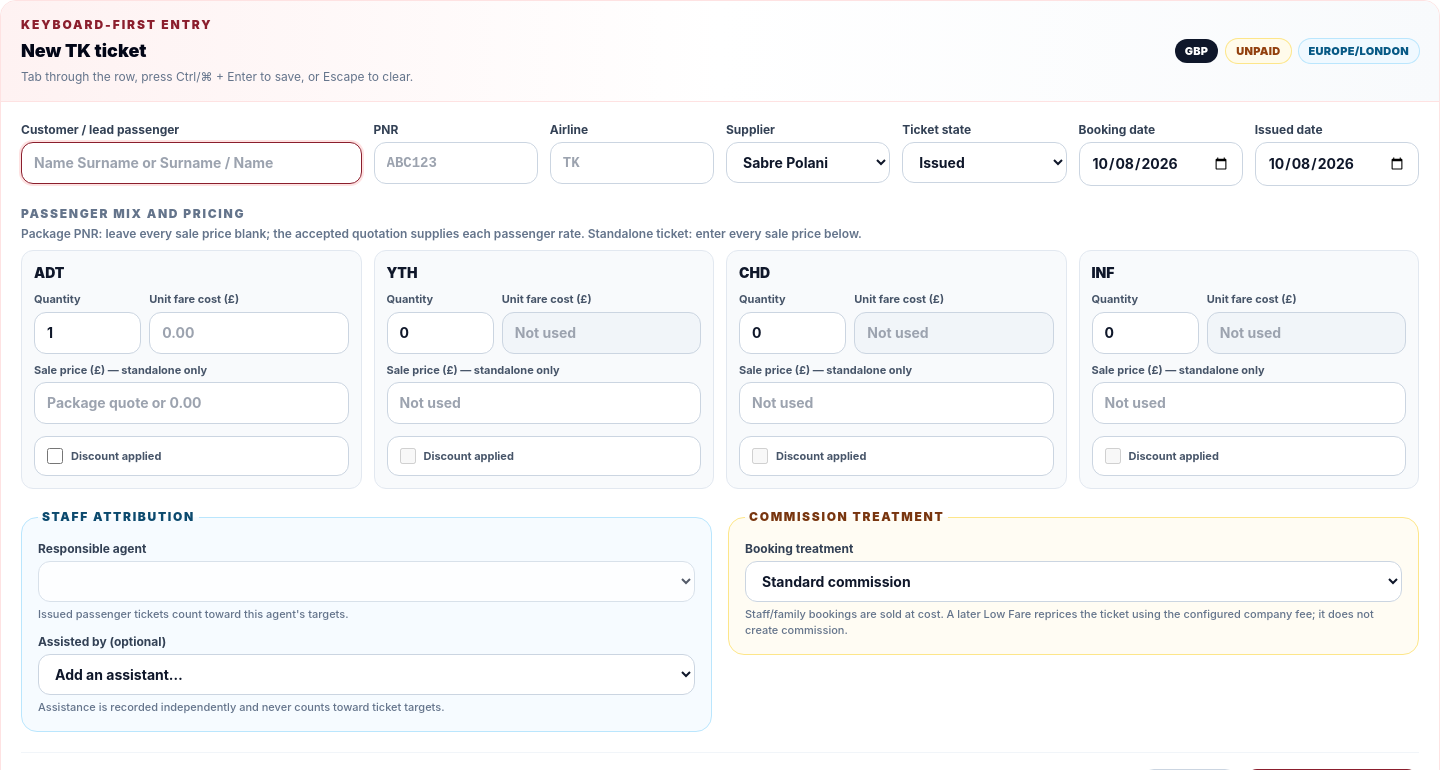
Test: TicketQuickEntryForm › shows sale price by default and reveals discount only when selected
Check: the field named "ADT unit sale price" is shown, box [34, 382, 348, 424]
Click the checkbox named "ADT has discount": (55, 456) [47, 448, 63, 464]
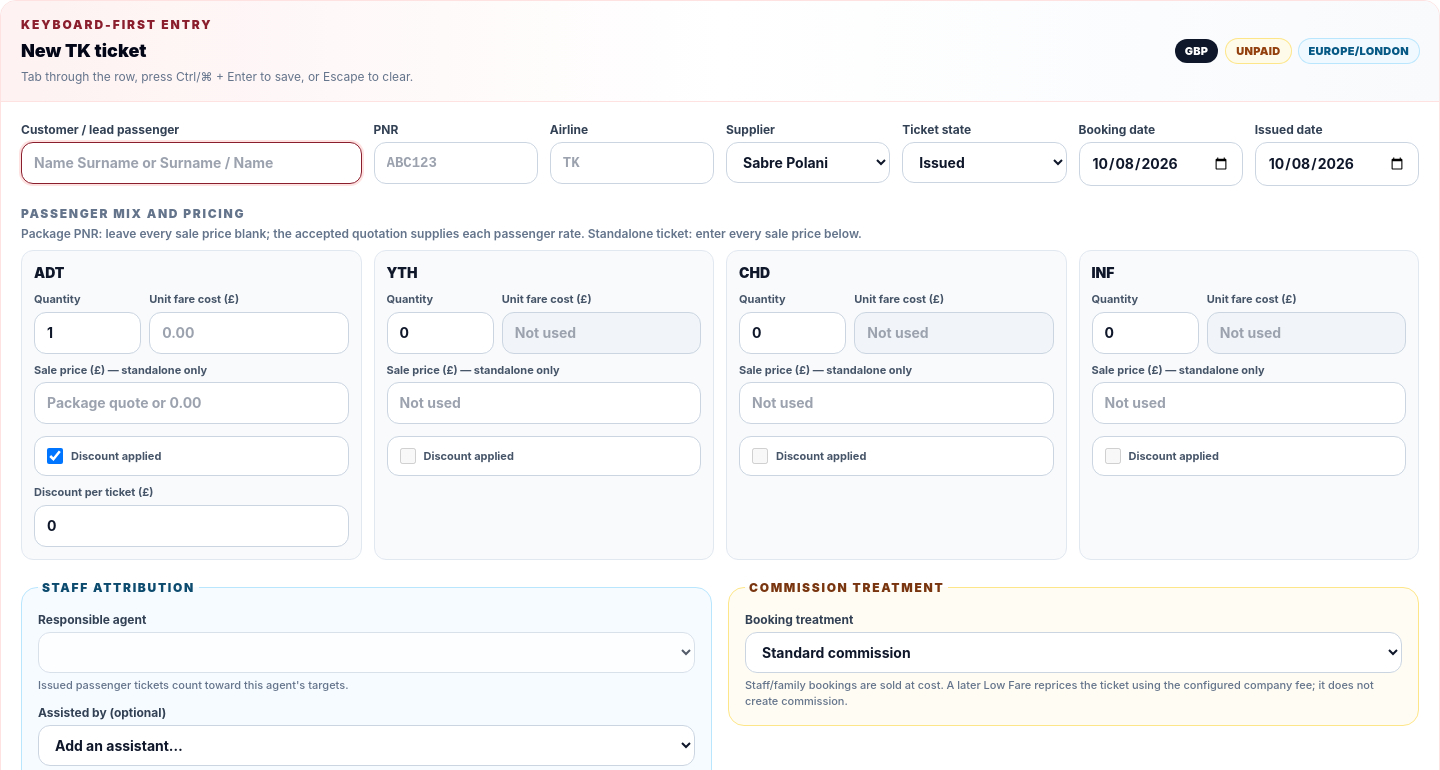
Check: the field named "ADT unit discount" is shown, box [34, 504, 348, 546]
